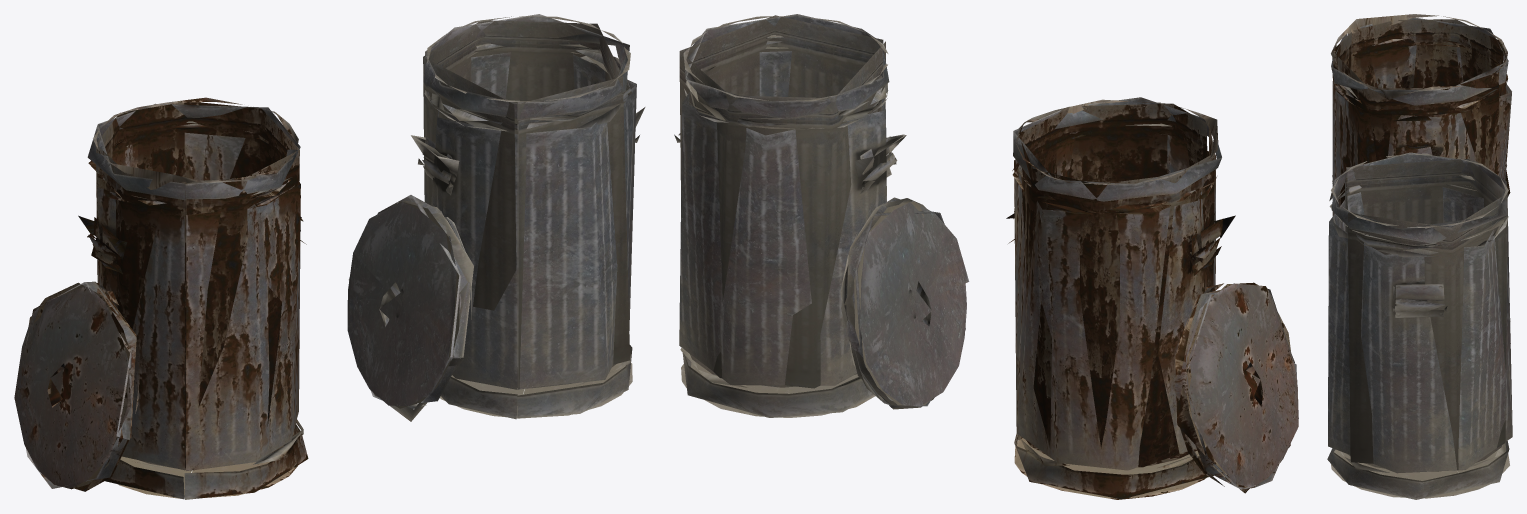
File: bin.glb
The picture shows the model from 3 angles, left to right: view 1: azimuth 30°, elevation 25°; view 2: azimuth 150°, elevation 25°; view 3: azimuth 270°, elevation 25°; orthographic projection. The views are drawn at different scales.
Parts seen in each view (by area): view 1: metal_trash_can_handle_left; view 2: metal_trash_can_handle_left; view 3: metal_trash_can_handle_left.
Part boxes in pixels (left/top/right/bottom): metal_trash_can_handle_left: left=14, top=14, right=645, bottom=499; metal_trash_can_handle_left: left=674, top=14, right=1298, bottom=499; metal_trash_can_handle_left: left=1327, top=14, right=1512, bottom=499.
Size of the model in its own units: 1.76 by 0.9443 by 0.5655.
3 materials, 3 textured.
